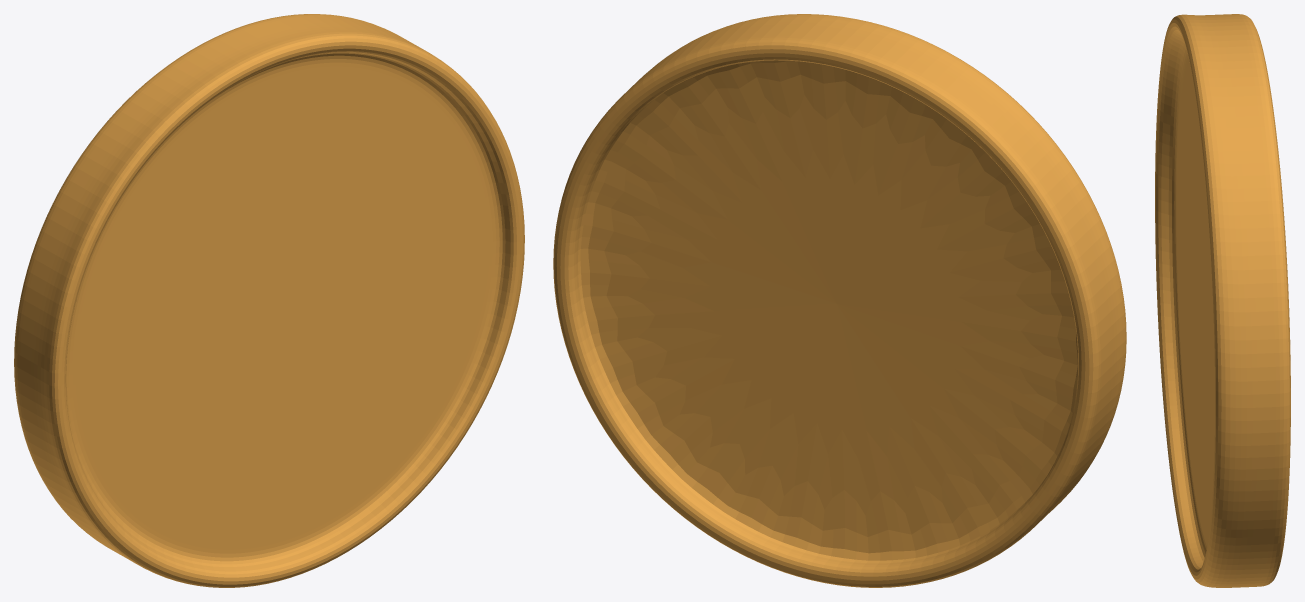
The model's file is coin.fbx.
The picture shows the model from 3 angles, left to right: view 1: azimuth 30°, elevation 25°; view 2: azimuth 150°, elevation 25°; view 3: azimuth 270°, elevation 25°; orthographic projection. The views are drawn at different scales.
Parts seen in each view (by area): view 1: Circle; view 2: Circle; view 3: Circle.
Part boxes in pixels (x1,y1,x2,y2): Circle: (14,14,524,587); Circle: (553,14,1126,587); Circle: (1155,14,1290,587).
Bounding box in the file's own units: 199 × 199 × 47.14.
